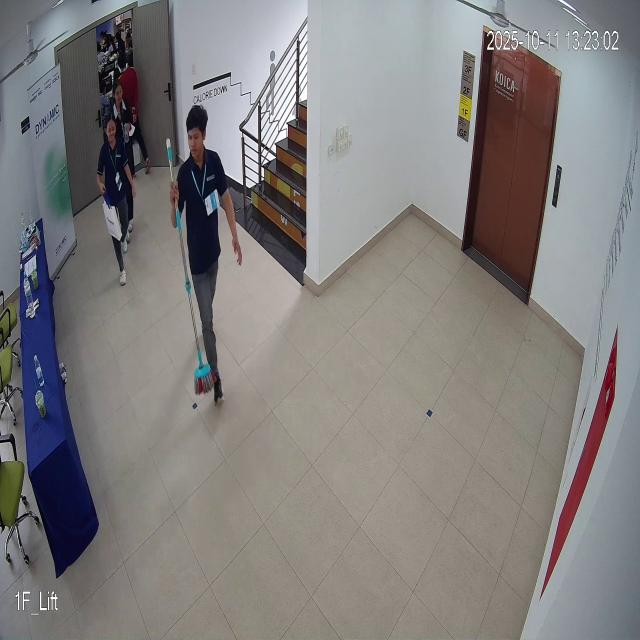face: (186, 96, 211, 164)
